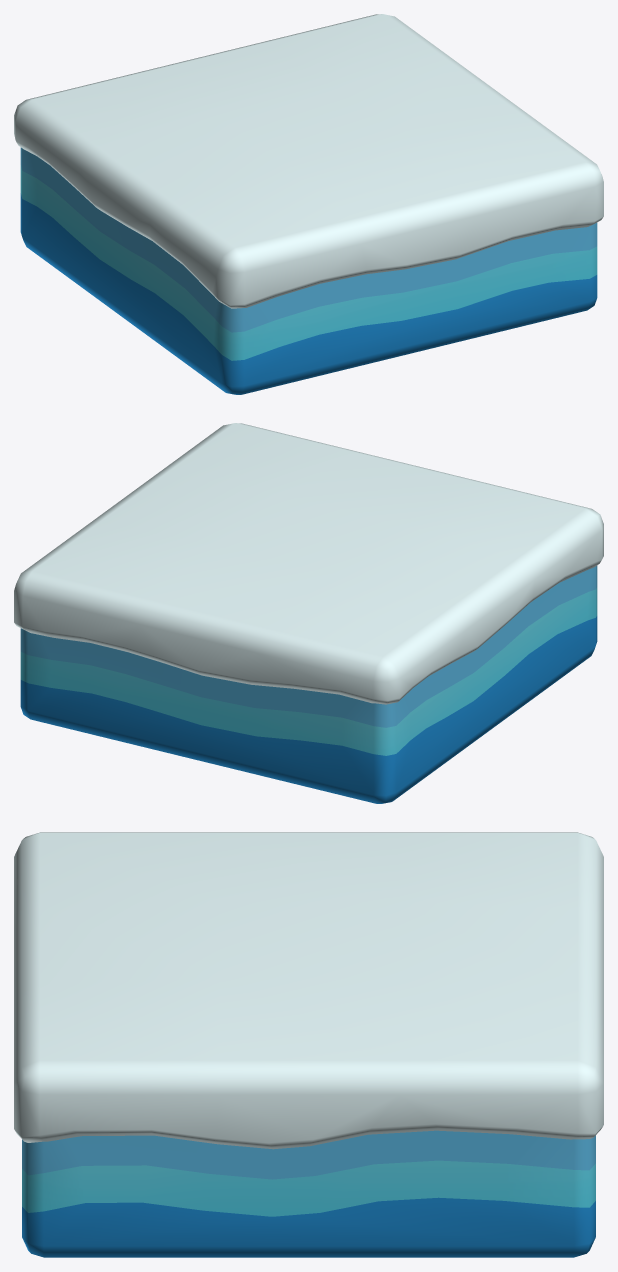
Rendered from ice_platform_001.fbx.
3 renders of one model, top to bottom at view 1: azimuth 30°, elevation 25°; view 2: azimuth 150°, elevation 25°; view 3: azimuth 270°, elevation 25°, orthographic. The views are drawn at different scales.
Parts seen in each view (by area): view 1: ice_platform_001; view 2: ice_platform_001; view 3: ice_platform_001.
Boxes of the visible parts, bbox=[...] form: ice_platform_001: bbox=[14, 14, 603, 394]; ice_platform_001: bbox=[14, 423, 603, 803]; ice_platform_001: bbox=[14, 832, 603, 1257].
Size of the model in its own units: 447 by 447 by 171.
